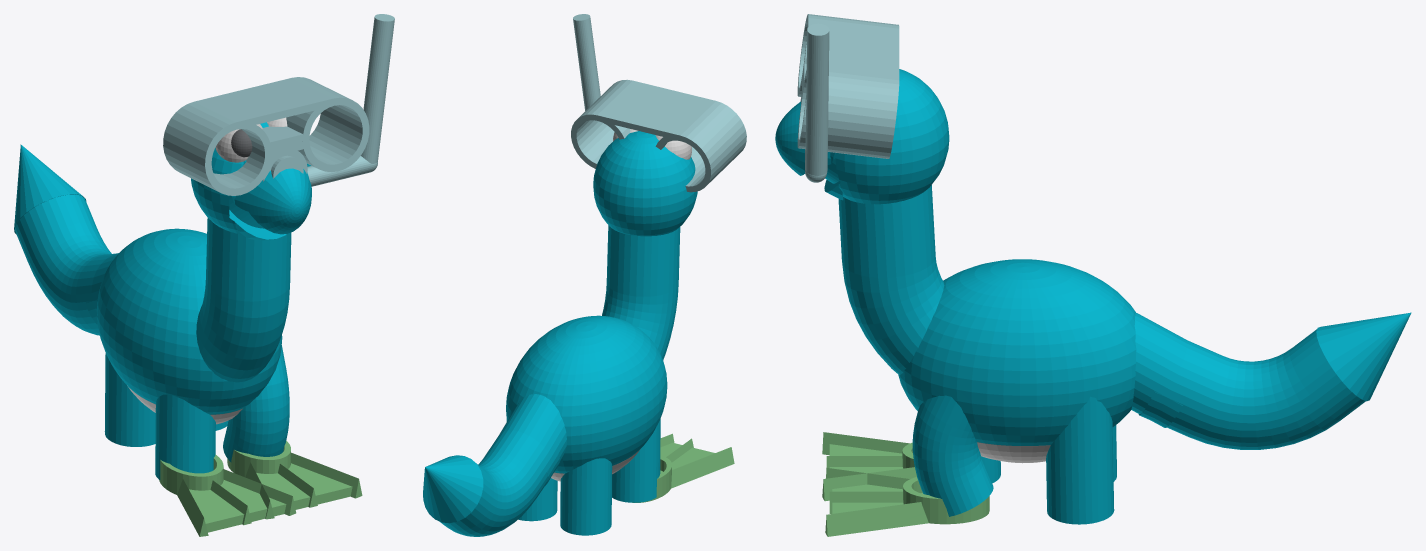
File: asset.glb
3 views of the same model, side by side, from view 1: azimuth 30°, elevation 25°; view 2: azimuth 150°, elevation 25°; view 3: azimuth 270°, elevation 25° (orthographic). The views are drawn at different scales.
Visible parts, largest first — view 1: Mesh_Mesh_head_geo.001_lambert2SG.001; view 2: Mesh_Mesh_head_geo.001_lambert2SG.001; view 3: Mesh_Mesh_head_geo.001_lambert2SG.001.
Part boxes in pixels (x1,y1,x2,y2): Mesh_Mesh_head_geo.001_lambert2SG.001: [14, 14, 394, 536]; Mesh_Mesh_head_geo.001_lambert2SG.001: [423, 14, 746, 536]; Mesh_Mesh_head_geo.001_lambert2SG.001: [775, 14, 1411, 536].
Size of the model in its own units: 44.03 by 103 by 115.
